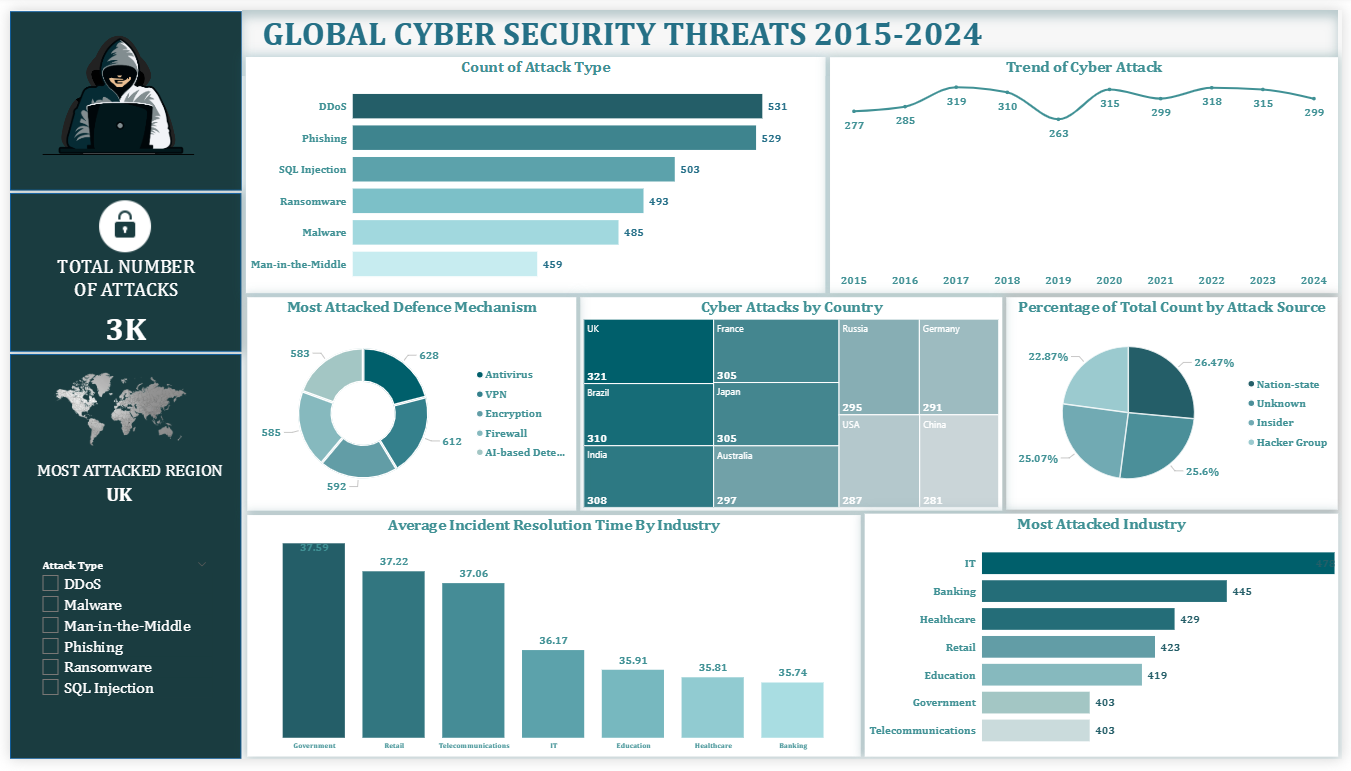

The dashboard page shown, as its layout file describes it:
{"tool":"powerbi","page":{"name":"Page 1","canvas":[1920,1080],"ordinal":0},"visuals":[{"type":"textbox","box":[334,0,1580,96],"z":0},{"type":"shape","box":[0,2,334,258],"z":1000},{"type":"shape","box":[0,263.3,333.3,228.3],"z":2000},{"type":"shape","box":[0,495,333.3,583.3],"z":3000},{"type":"image","box":[41.7,28.3,228.3,190],"z":4000},{"type":"image","box":[66.7,265,200,91.7],"z":5000},{"type":"slicer","fields":{"Values":["Global_Cybersecurity_Threats_2015-2024.Attack Type"]},"box":[34,786,262,252],"z":7000},{"type":"cardVisual","title":"TOTAL NUMBER OF ATTACKS","fields":{"Data":["Sum(Global_Cybersecurity_Threats_2015-2024.Total_Count)"]},"box":[48.3,351.7,238.3,140],"z":8000},{"type":"clusteredBarChart","title":"Count of Attack Type","fields":{"Category":["Global_Cybersecurity_Threats_2015-2024.Attack Type"],"Y":["CountNonNull(Global_Cybersecurity_Threats_2015-2024.Total_Count)"]},"box":[340,68.3,835,340],"z":9000},{"type":"lineChart","title":"Trend of Cyber Attack","fields":{"Category":["Global_Cybersecurity_Threats_2015-2024.Year"],"Y":["Sum(Global_Cybersecurity_Threats_2015-2024.Total_Count)"]},"box":[1182,68,732,340],"z":10000},{"type":"pieChart","title":"Percentage of Total Count by Attack Source","fields":{"Category":["Global_Cybersecurity_Threats_2015-2024.Attack Source"],"Y":["Sum(Global_Cybersecurity_Threats_2015-2024.Total_Count)"]},"box":[1436,414,478,306],"z":11000},{"type":"treemap","title":"Cyber Attacks by Country","fields":{"Group":["Global_Cybersecurity_Threats_2015-2024.Country"],"Values":["Global_Cybersecurity_Threats_2015-2024.Final Count"]},"box":[822,414,608,308],"z":12000},{"type":"donutChart","title":"Most Attacked Defence Mechanism","fields":{"Category":["Global_Cybersecurity_Threats_2015-2024.Defense Mechanism Used"],"Y":["Sum(Global_Cybersecurity_Threats_2015-2024.Total_Count)"]},"box":[342,414,474,308],"z":13000},{"type":"clusteredColumnChart","title":"Average Incident Resolution Time By Industry","fields":{"Category":["Global_Cybersecurity_Threats_2015-2024.Target Industry"],"Y":["Global_Cybersecurity_Threats_2015-2024.Avg Resolution Hours"]},"box":[342,728,884,348],"z":14000},{"type":"clusteredBarChart","title":"Most Attacked Industry","fields":{"Category":["Global_Cybersecurity_Threats_2015-2024.Target Industry"],"Y":["Sum(Global_Cybersecurity_Threats_2015-2024.Total_Count)"]},"box":[1232.2,726.7,682.2,350],"z":15000},{"type":"cardVisual","fields":{"Rows":["Global_Cybersecurity_Threats_2015-2024.Country"]},"box":[85,682.5,142.5,92.5],"z":16000},{"type":"textbox","box":[25,643.3,293.3,51.7],"z":17000},{"type":"image","box":[47.5,507.5,222.5,135],"z":18000},{"type":"image","box":[10,18.3,300,211.7],"z":19000}]}

Visuals, with their boxes in screenshot pixels (x1, y1, x2, y2), scaled from the page's 1920x1080 canvas onto the 1351x771 screenshot:
textbox: left=235, top=0, right=1347, bottom=69
shape: left=0, top=1, right=235, bottom=186
shape: left=0, top=188, right=235, bottom=351
shape: left=0, top=353, right=235, bottom=770
image: left=29, top=20, right=190, bottom=156
image: left=47, top=189, right=188, bottom=255
slicer - Global_Cybersecurity_Threats_2015-2024.Attack Type: left=24, top=561, right=208, bottom=741
"TOTAL NUMBER OF ATTACKS" cardVisual: left=34, top=251, right=202, bottom=351
"Count of Attack Type" clusteredBarChart: left=239, top=49, right=827, bottom=291
"Trend of Cyber Attack" lineChart: left=832, top=49, right=1347, bottom=291
"Percentage of Total Count by Attack Source" pieChart: left=1010, top=296, right=1347, bottom=514
"Cyber Attacks by Country" treemap: left=578, top=296, right=1006, bottom=515
"Most Attacked Defence Mechanism" donutChart: left=241, top=296, right=574, bottom=515
"Average Incident Resolution Time By Industry" clusteredColumnChart: left=241, top=520, right=863, bottom=768
"Most Attacked Industry" clusteredBarChart: left=867, top=519, right=1347, bottom=769
cardVisual - Global_Cybersecurity_Threats_2015-2024.Country: left=60, top=487, right=160, bottom=553
textbox: left=18, top=459, right=224, bottom=496
image: left=33, top=362, right=190, bottom=459
image: left=7, top=13, right=218, bottom=164
